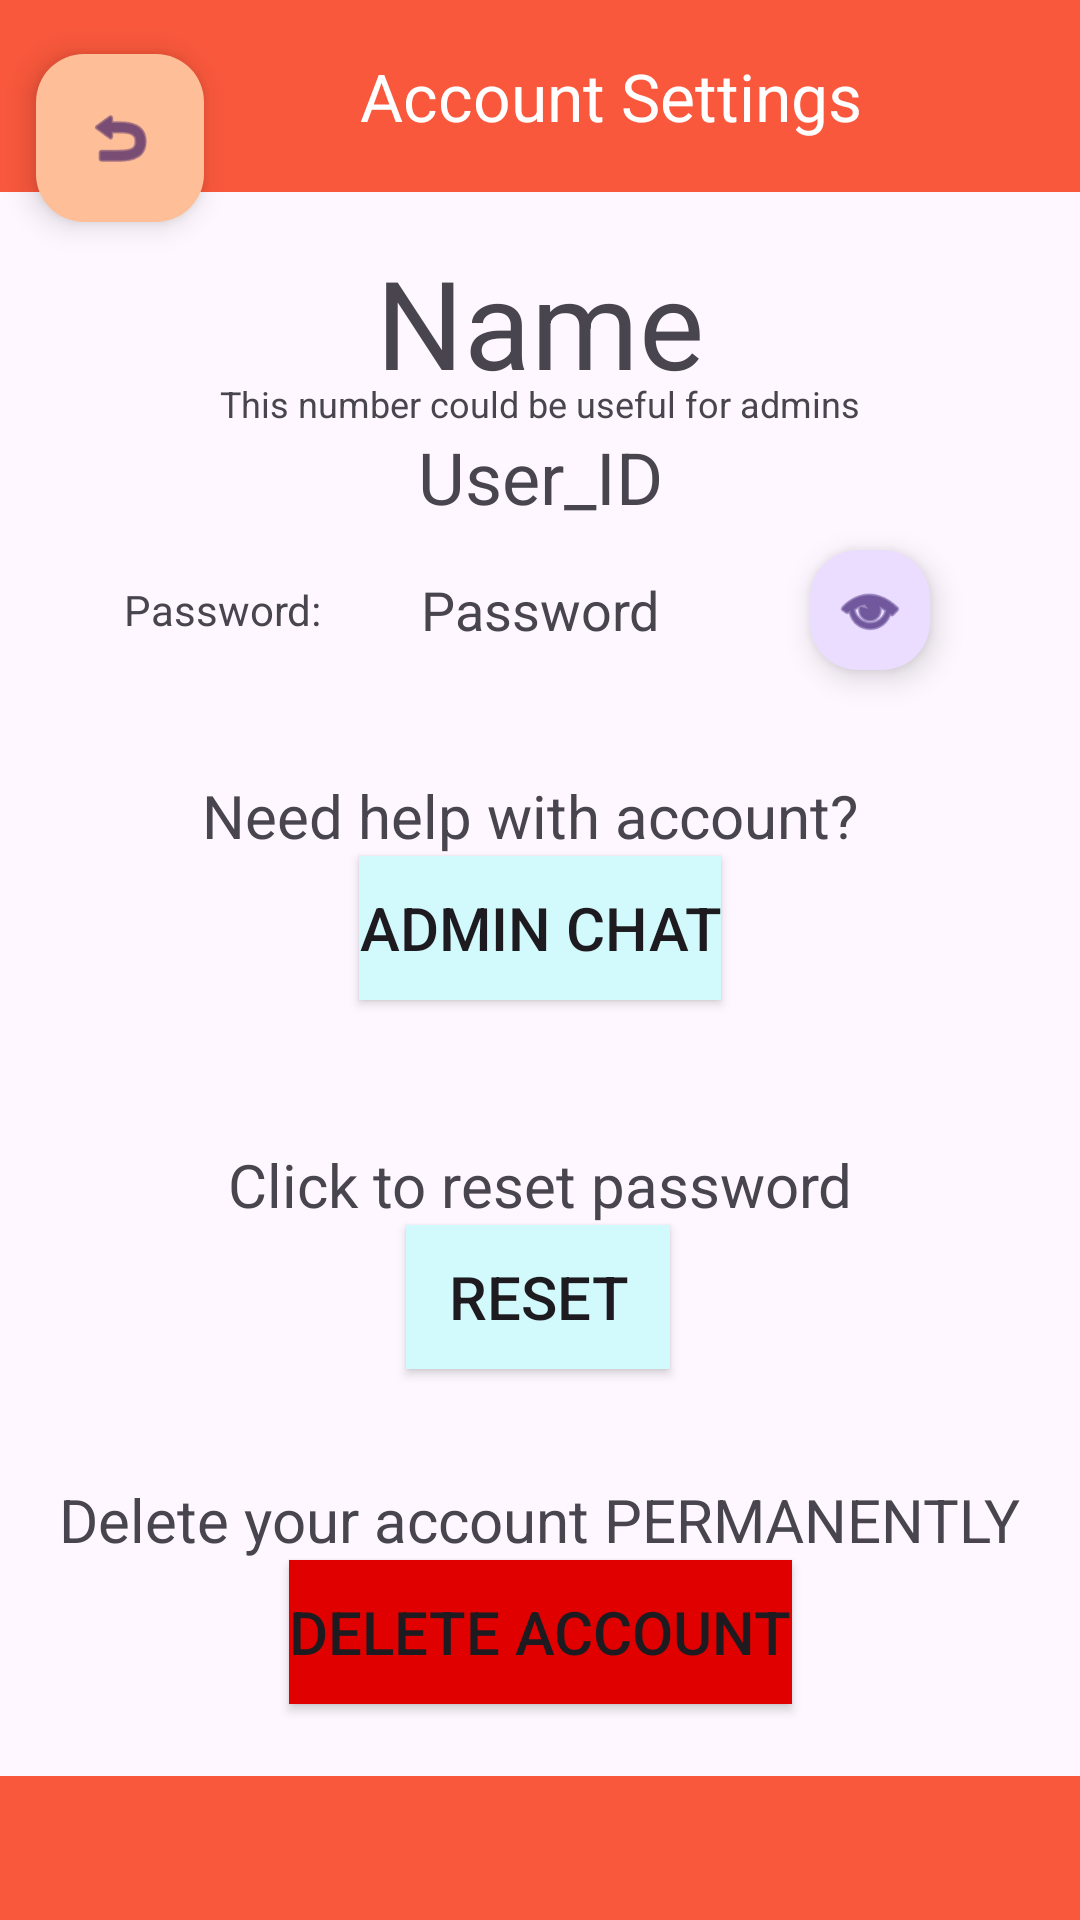

Point at icon controls on the screen. Image size 1080 × 1920, points as (x=x, y=y).
Return to previous screen: (x=120, y=111)
view: (x=873, y=614)
